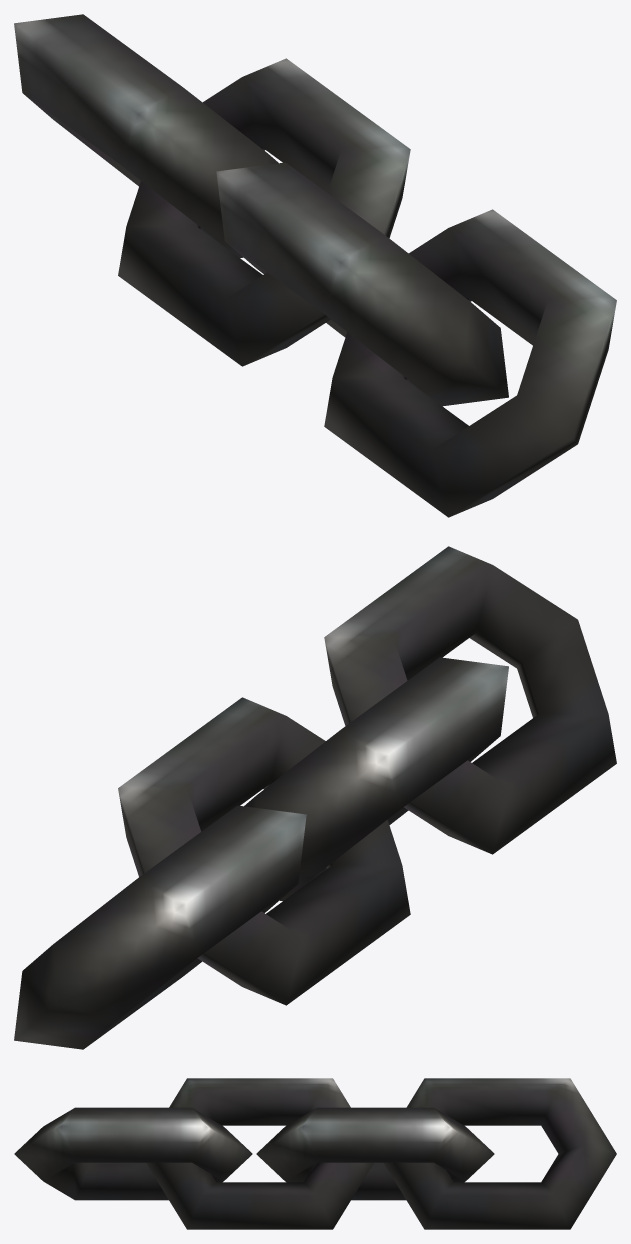
The model's file is Battle01_DemoIronchain_01.FBX.
The picture shows the model from 3 angles, top to bottom: view 1: azimuth 30°, elevation 25°; view 2: azimuth 150°, elevation 25°; view 3: azimuth 270°, elevation 25°; orthographic projection. The views are drawn at different scales.
Parts seen in each view (by area): view 1: C01_DemoIronchain_01; view 2: C01_DemoIronchain_01; view 3: C01_DemoIronchain_01.
Part boxes in pixels (box(x1,y1,x2,y2)): C01_DemoIronchain_01: box(14, 14, 616, 517); C01_DemoIronchain_01: box(14, 546, 616, 1049); C01_DemoIronchain_01: box(14, 1078, 616, 1229).
Bounding box in the file's own units: 0.2093 × 0.2093 × 1.05.
